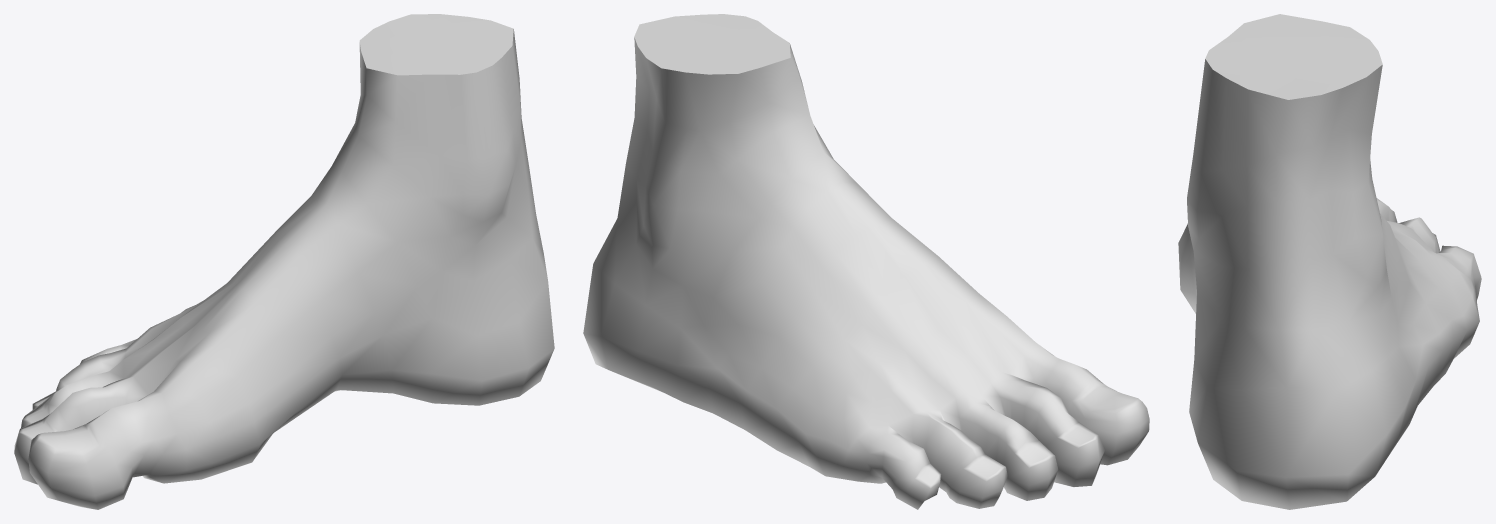
File: right.dae
3 renders of one model, left to right at view 1: azimuth 30°, elevation 25°; view 2: azimuth 150°, elevation 25°; view 3: azimuth 270°, elevation 25°, orthographic. The views are drawn at different scales.
Parts seen in each view (by area): view 1: pPlane4; view 2: pPlane4; view 3: pPlane4.
Boxes of the visible parts, x1,y1,x2,y2 form: pPlane4: (14,14,554,509); pPlane4: (583,14,1149,509); pPlane4: (1178,14,1481,509).
Size of the model in its own units: 9.12 by 5.76 by 3.83.
Materials: 1 (1 with a texture image).
